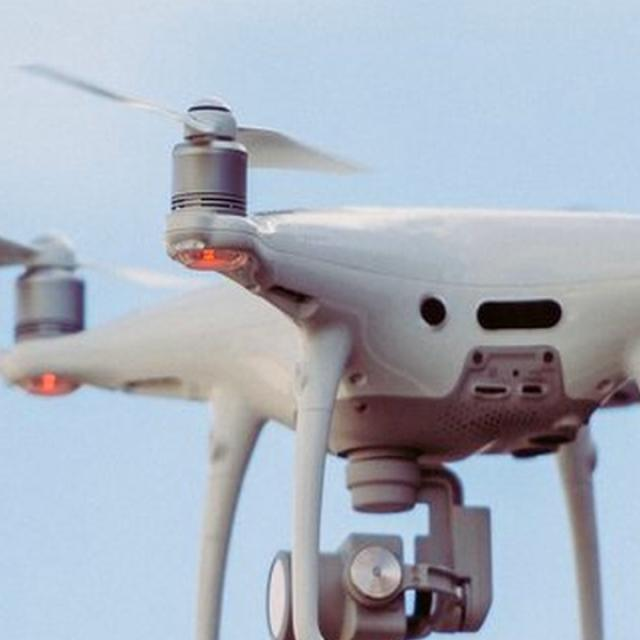drone: (0, 17, 640, 601)
